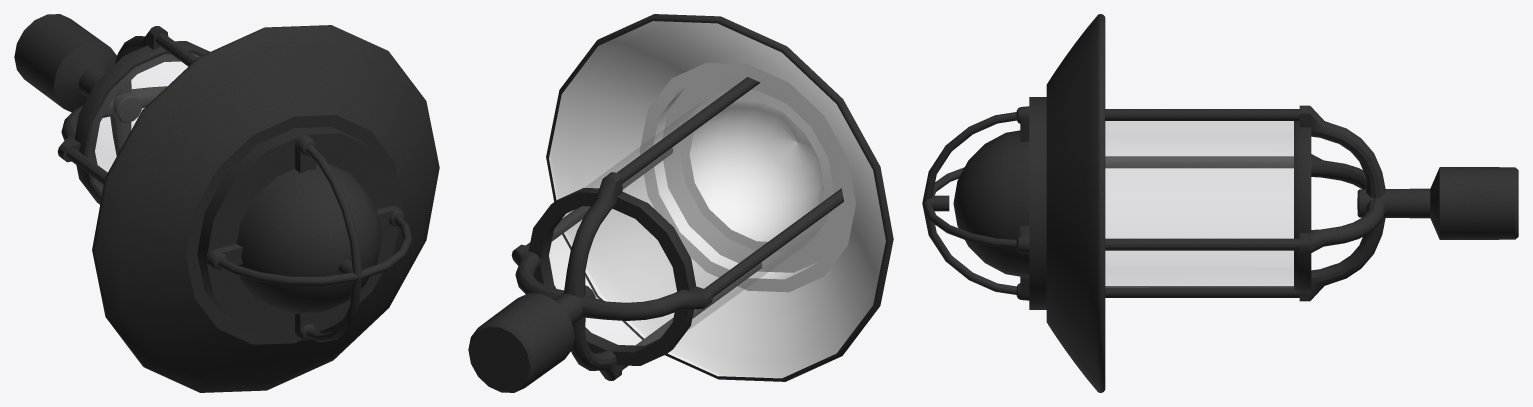
The model's file is Alte_Stadt.obj.
3 views of the same model, side by side, from view 1: azimuth 30°, elevation 25°; view 2: azimuth 150°, elevation 25°; view 3: azimuth 270°, elevation 25° (orthographic). The views are drawn at different scales.
Parts seen in each view (by area): view 1: Alte_Stadt_BezierCurve; view 2: Alte_Stadt_BezierCurve; view 3: Alte_Stadt_BezierCurve.
Boxes of the visible parts, x1,y1,x2,y2 form: Alte_Stadt_BezierCurve: [14, 14, 439, 392]; Alte_Stadt_BezierCurve: [468, 14, 893, 392]; Alte_Stadt_BezierCurve: [922, 14, 1518, 392].
Size of the model in its own units: 0.5238 by 0.5238 by 0.8235.
